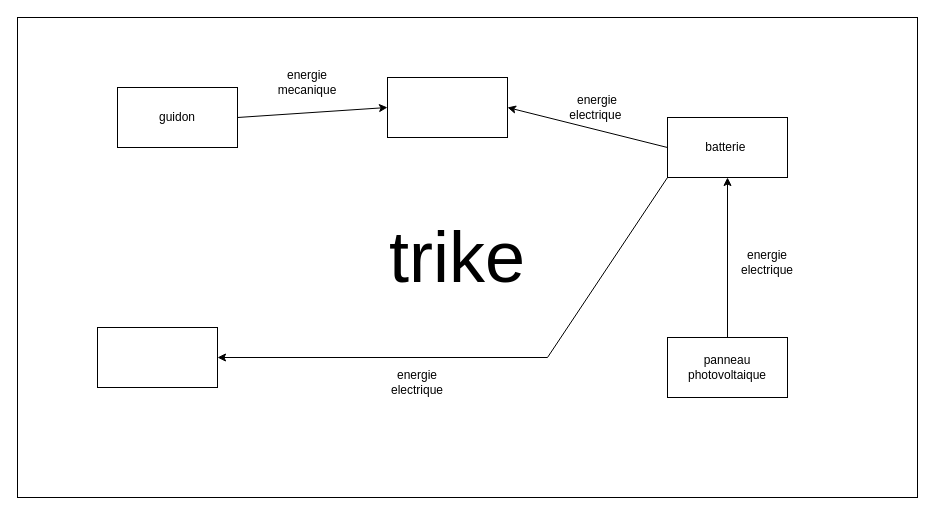
Image size: 935x515. Some labels were removed from this diagram. The shapes that lost their labels are listed below. From the top down, each one's centre as x and y in pixels, then its label:
(447,107): roue + moteur
(157,357): ecran
